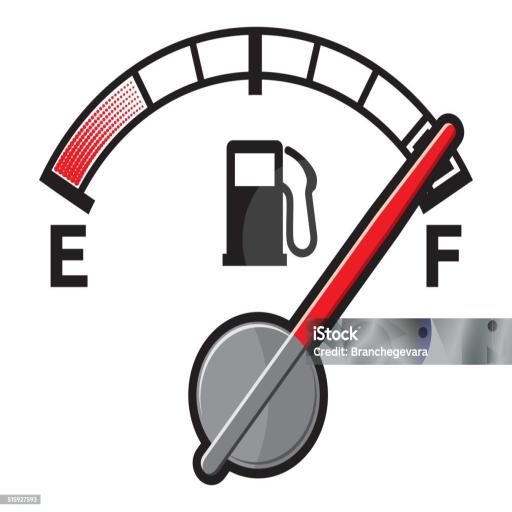empty: (43, 220, 98, 296)
fuel_icon: (223, 138, 322, 268)
full: (423, 222, 467, 294)
guage_area: (36, 26, 480, 484)
needle_center: (193, 317, 328, 474)
needle_tip: (425, 119, 463, 164)
